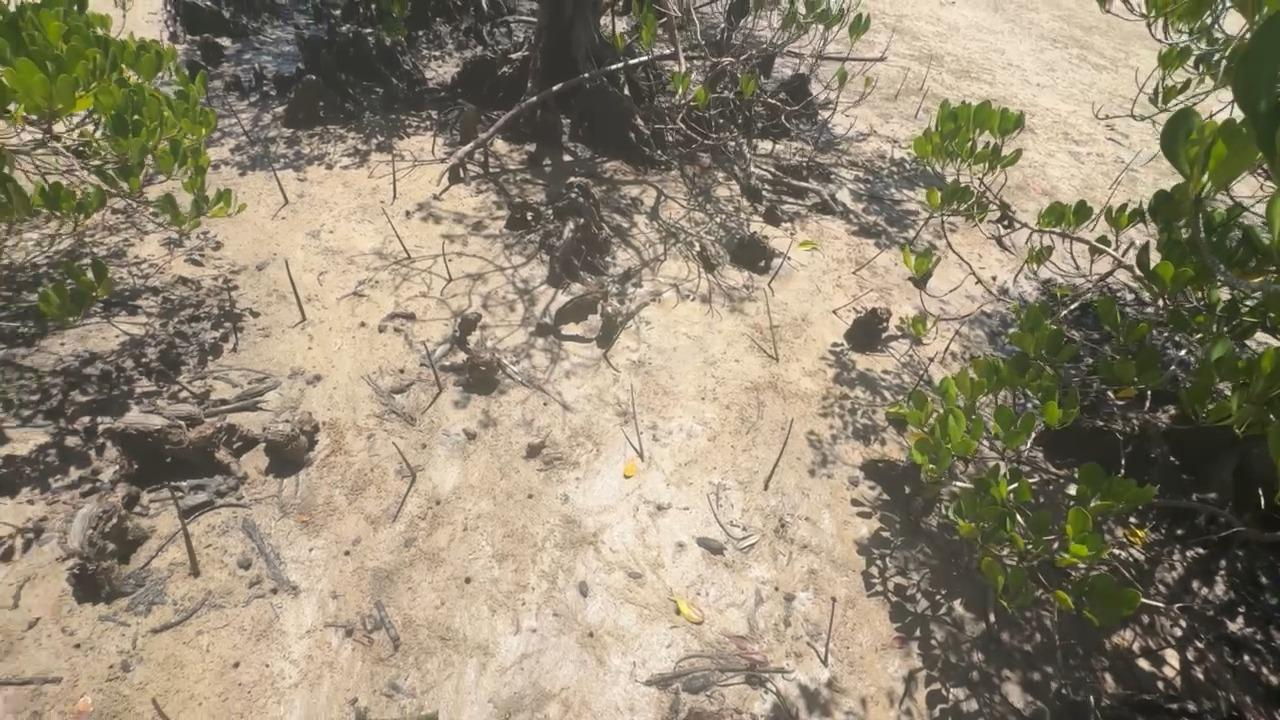Tree: (165, 483, 201, 578), (764, 417, 794, 491), (707, 493, 754, 540), (1089, 176, 1125, 232), (380, 207, 411, 259), (863, 29, 895, 76), (1108, 148, 1143, 190), (284, 259, 306, 321), (223, 95, 252, 141), (763, 288, 780, 363), (630, 383, 645, 462), (768, 239, 793, 286), (851, 246, 890, 275), (942, 319, 968, 362), (422, 341, 443, 392), (823, 596, 838, 667), (267, 157, 289, 205), (1013, 246, 1038, 284), (909, 210, 936, 245), (832, 289, 873, 312), (914, 351, 938, 390), (392, 441, 416, 478), (226, 283, 239, 346), (114, 0, 135, 39), (604, 323, 627, 356), (1074, 212, 1101, 233), (914, 86, 930, 120), (895, 66, 911, 100), (920, 55, 934, 91), (151, 697, 171, 720), (390, 136, 397, 198), (442, 240, 452, 281), (1139, 149, 1160, 167), (855, 61, 866, 77), (663, 227, 668, 261), (846, 72, 856, 84), (432, 127, 436, 155), (205, 92, 212, 106), (159, 29, 164, 43)
